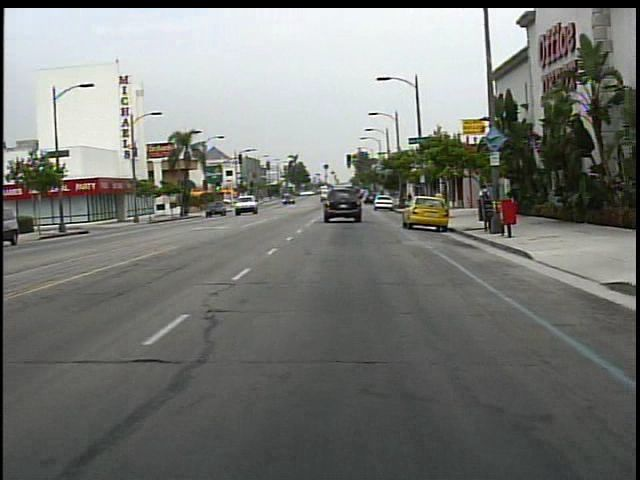person: (472, 182, 493, 221)
